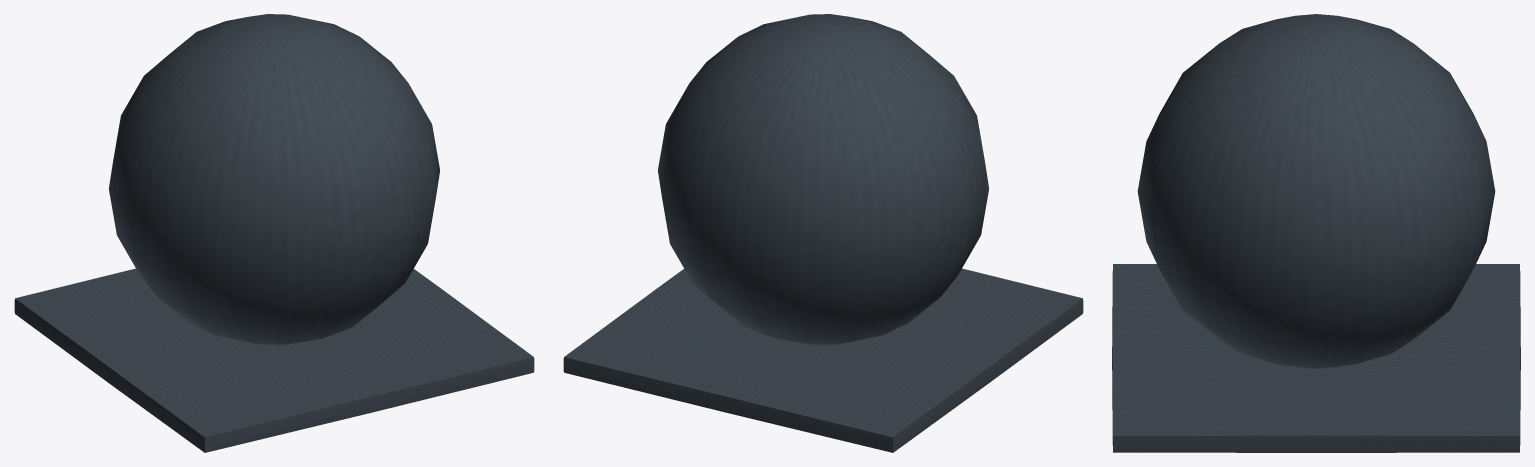
The picture shows the model from 3 angles, left to right: view 1: azimuth 30°, elevation 25°; view 2: azimuth 150°, elevation 25°; view 3: azimuth 270°, elevation 25°; orthographic projection. The views are drawn at different scales.
Visible parts, largest first — view 1: surface.0, surface.1; view 2: surface.0, surface.1; view 3: surface.0, surface.1.
Boxes of the visible parts, x1,y1,x2,y2 form: surface.0: [109, 14, 439, 345]; surface.1: [14, 268, 534, 452]; surface.0: [658, 14, 988, 345]; surface.1: [563, 268, 1083, 452]; surface.0: [1137, 14, 1495, 368]; surface.1: [1112, 264, 1520, 452].
Size of the model in its own units: 0.8 by 0.73 by 0.8.
Materials: 1 (1 with a texture image).
